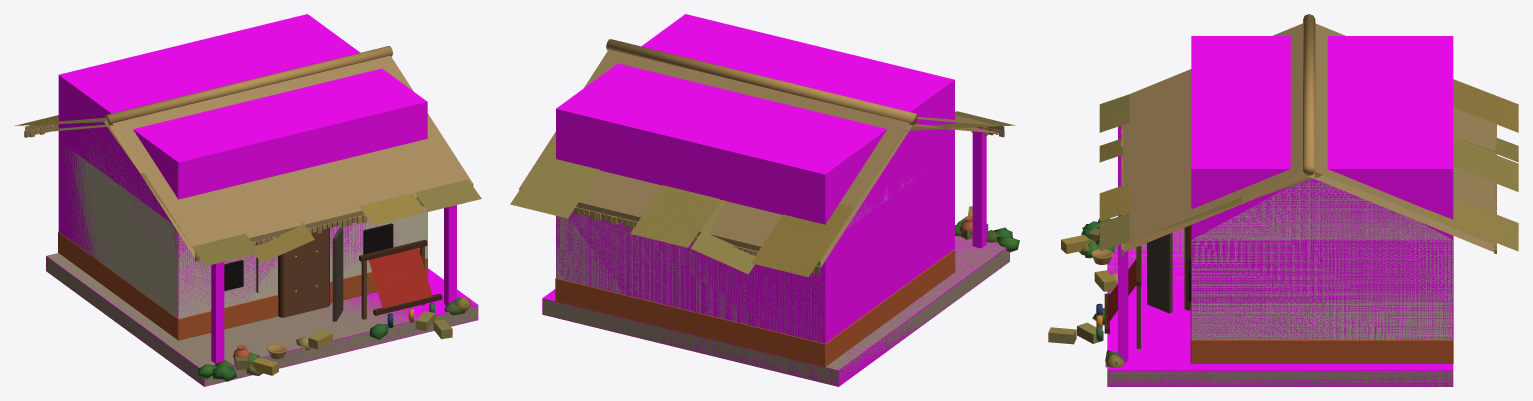
Rendered from ENV_House_Thatch_A.glb.
The picture shows the model from 3 angles, left to right: view 1: azimuth 30°, elevation 25°; view 2: azimuth 150°, elevation 25°; view 3: azimuth 270°, elevation 25°; orthographic projection. The views are drawn at different scales.
Visible parts, largest first — view 1: COL_Body, ENV_House_Thatch_A_Base, STATE_restored_Roof, STATE_neglected, STATE_restored, WALK_Plinth, COL_Post_-1, COL_Post_1; view 2: COL_Body, ENV_House_Thatch_A_Base, STATE_restored_Roof, STATE_neglected, WALK_Plinth, COL_Post_-1; view 3: COL_Body, ENV_House_Thatch_A_Base, STATE_restored_Roof, STATE_neglected, WALK_Plinth, STATE_restored, COL_Post_1.
Boxes of the visible parts, box(x1,y1,x2,y2) form: COL_Body: box(58, 14, 427, 318); ENV_House_Thatch_A_Base: box(46, 127, 477, 386); STATE_restored_Roof: box(24, 46, 473, 261); STATE_neglected: box(14, 115, 481, 381); STATE_restored: box(233, 228, 442, 360); WALK_Plinth: box(46, 253, 478, 386); COL_Post_-1: box(211, 262, 224, 363); COL_Post_1: box(444, 205, 456, 305); COL_Body: box(556, 14, 954, 343); ENV_House_Thatch_A_Base: box(543, 171, 1009, 385); STATE_restored_Roof: box(519, 39, 1004, 273); STATE_neglected: box(510, 111, 1019, 277); WALK_Plinth: box(542, 236, 1009, 386); COL_Post_-1: box(972, 127, 986, 248); COL_Body: box(1191, 36, 1453, 339); ENV_House_Thatch_A_Base: box(1108, 179, 1453, 386); STATE_restored_Roof: box(1121, 14, 1496, 256); STATE_neglected: box(1048, 79, 1518, 367); WALK_Plinth: box(1107, 228, 1453, 386); STATE_restored: box(1091, 227, 1185, 348); COL_Post_1: box(1118, 244, 1128, 361).
Size of the model in its own units: 6.86 by 4.73 by 8.98.
